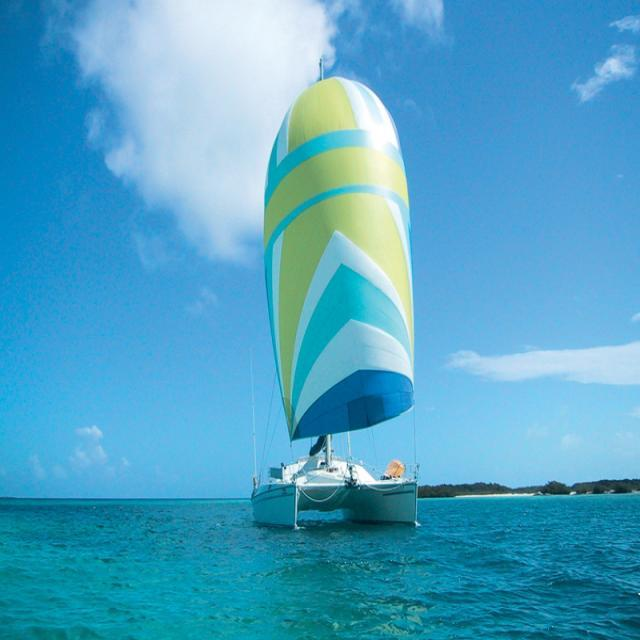Ship: (243, 62, 429, 533)
